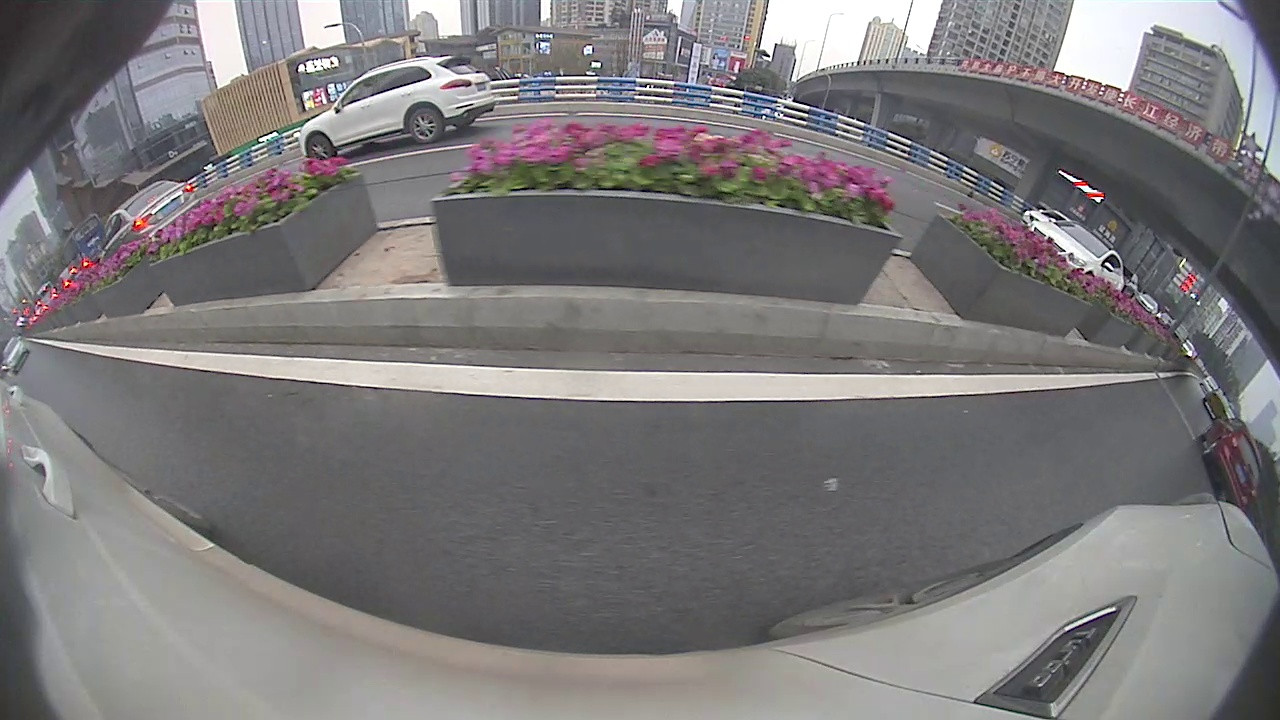car: (296, 54, 498, 160), (1196, 416, 1264, 509), (1202, 388, 1229, 419)
front: (303, 133, 337, 162)
rear: (407, 103, 445, 141)
